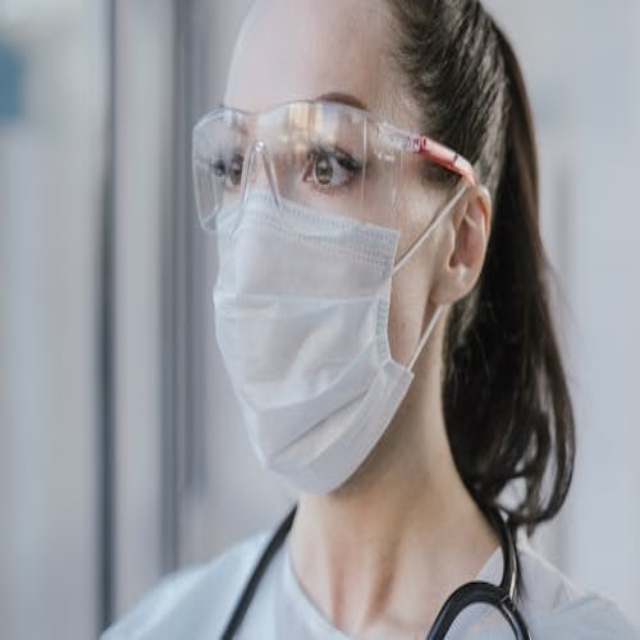Gafas: (190, 102, 480, 244)
Mascara: (200, 108, 466, 494)
